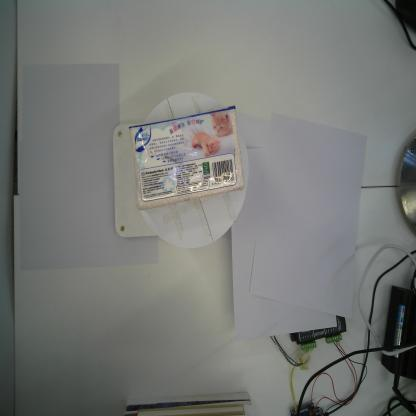Tissue: (129, 106, 245, 211)
